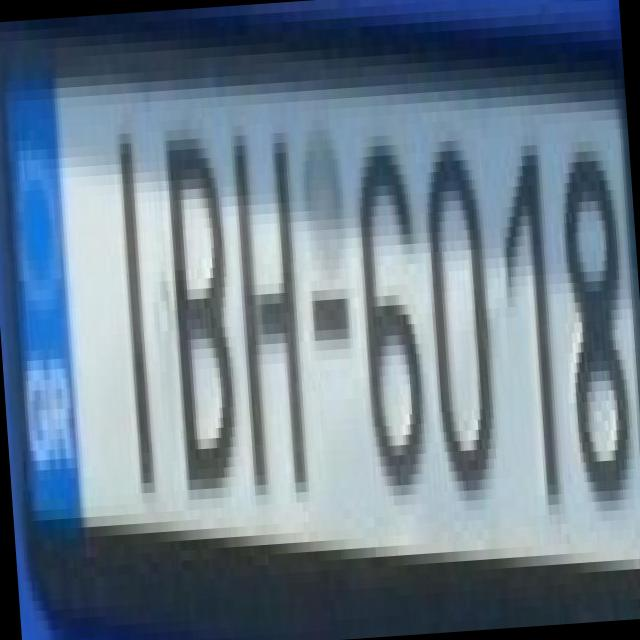0: (410, 119, 504, 492)
1: (483, 114, 569, 497)
6: (339, 113, 438, 487)
8: (540, 110, 634, 503)
B: (150, 107, 244, 500)
H: (220, 102, 314, 496)
L: (69, 82, 166, 506)
